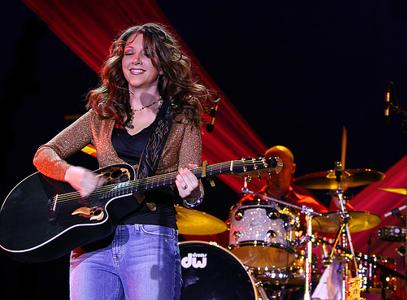person: (35, 24, 205, 300)
